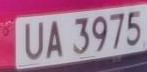3: (72, 14, 93, 58)
5: (124, 9, 143, 50)
7: (106, 7, 127, 50)
9: (90, 12, 109, 54)
A: (43, 17, 66, 61)
U: (22, 19, 44, 64)
